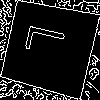L: (24, 22, 75, 61)
